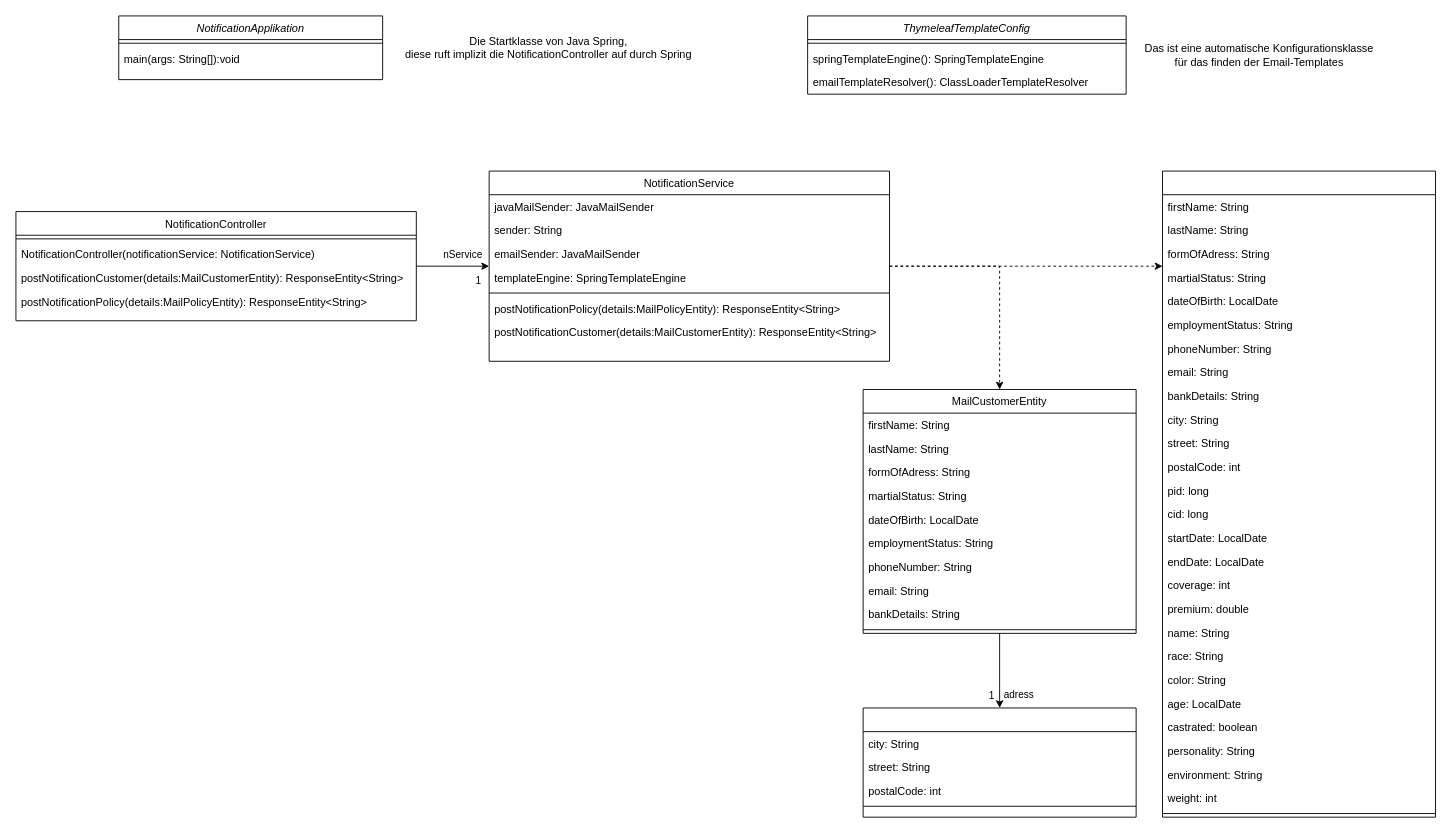
Some shapes in this 1451 by 834 pixel diagram are drawn without their labels. Here are the shapes that lost their labels. From the top down, the box of each, then its label:
(1162, 170, 1436, 817): MailPolicyEntity
(862, 707, 1136, 817): MailAddressEntity
